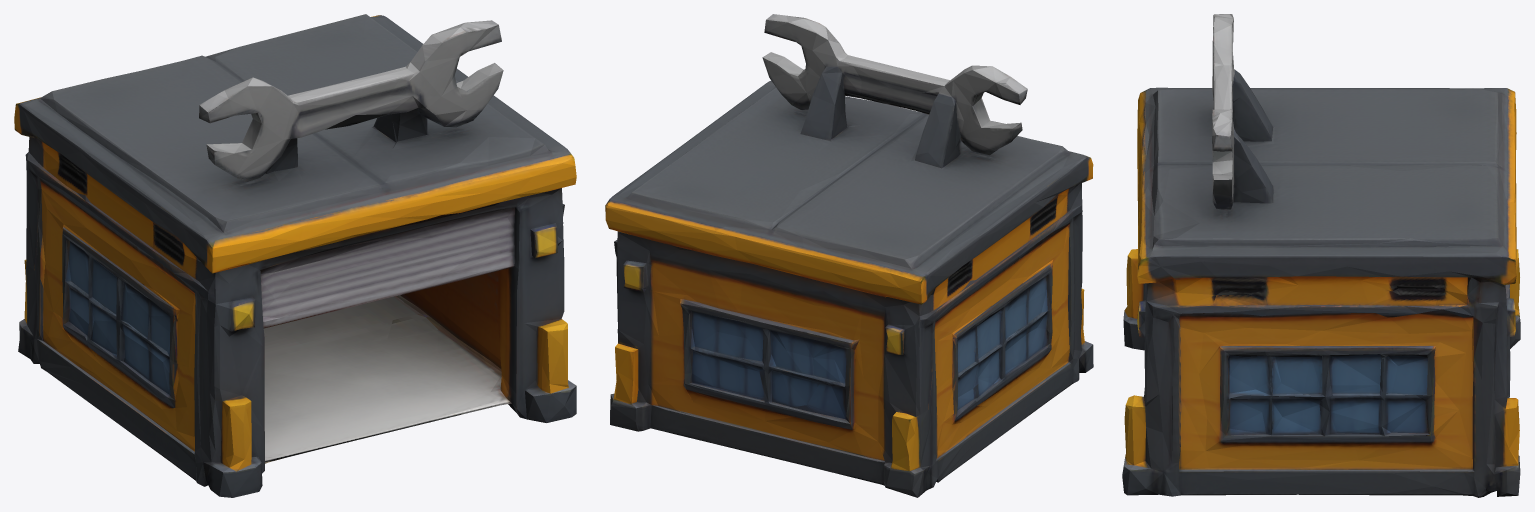
The model's file is gear_shop.glb.
3 views of the same model, side by side, from view 1: azimuth 30°, elevation 25°; view 2: azimuth 150°, elevation 25°; view 3: azimuth 270°, elevation 25° (orthographic). The views are drawn at different scales.
Visible parts, largest first — view 1: geometry_0; view 2: geometry_0; view 3: geometry_0.
Part boxes in pixels (x1,y1,x2,y2): geometry_0: (14, 14, 576, 497); geometry_0: (605, 14, 1093, 497); geometry_0: (1122, 14, 1520, 497).
Size of the model in its own units: 0.4823 by 0.4658 by 0.478.
Materials: 1 (1 with a texture image).
